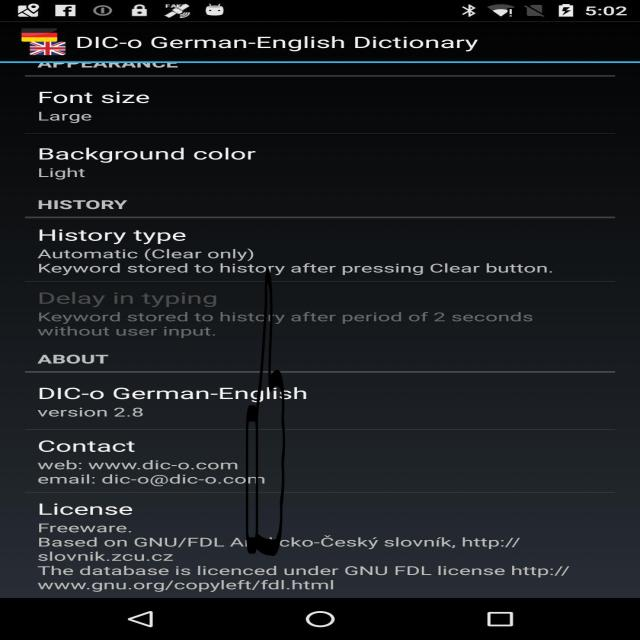privacy zuckering: (245, 267, 286, 556)
